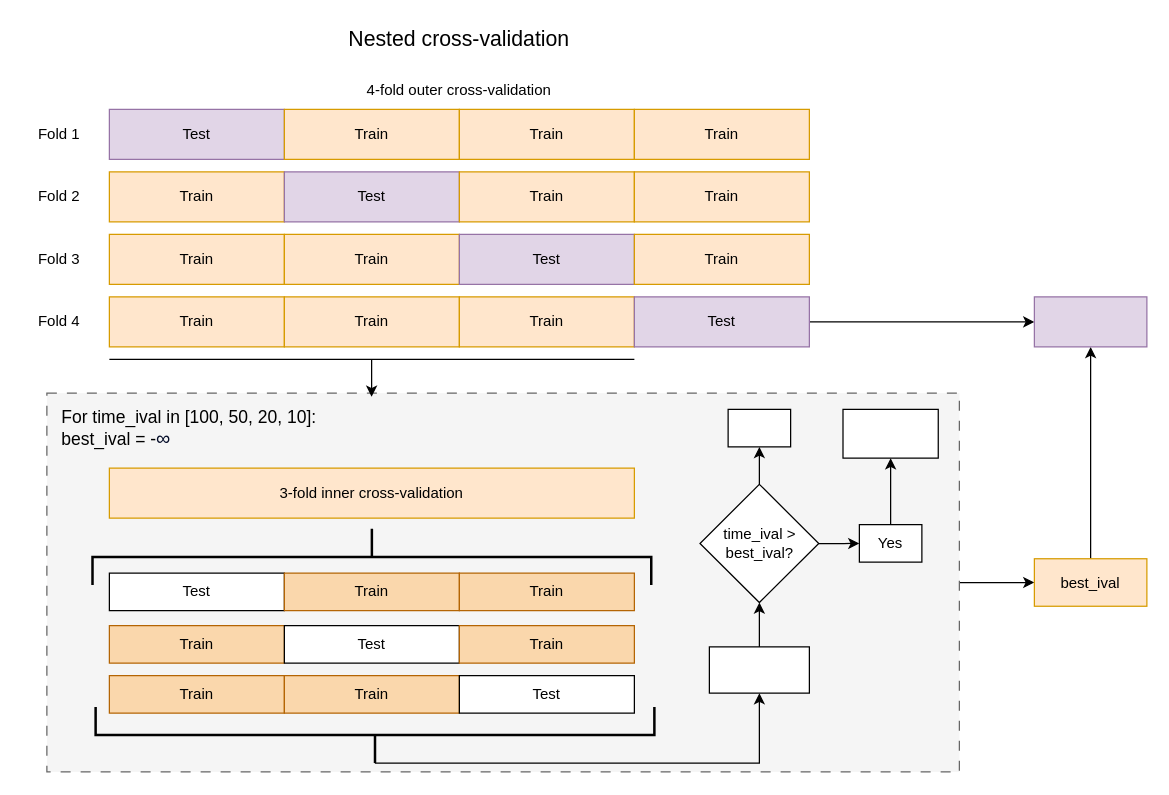
Image size: 1169x795. Some labels were removed from this diagram. Each missing label, with the centre of its shape:
"best_ival = time_ival" goes at (x=890, y=433).
"mean_AUC" goes at (x=758, y=669).
"No" goes at (x=759, y=427).
"test_score" goes at (x=1090, y=321).
